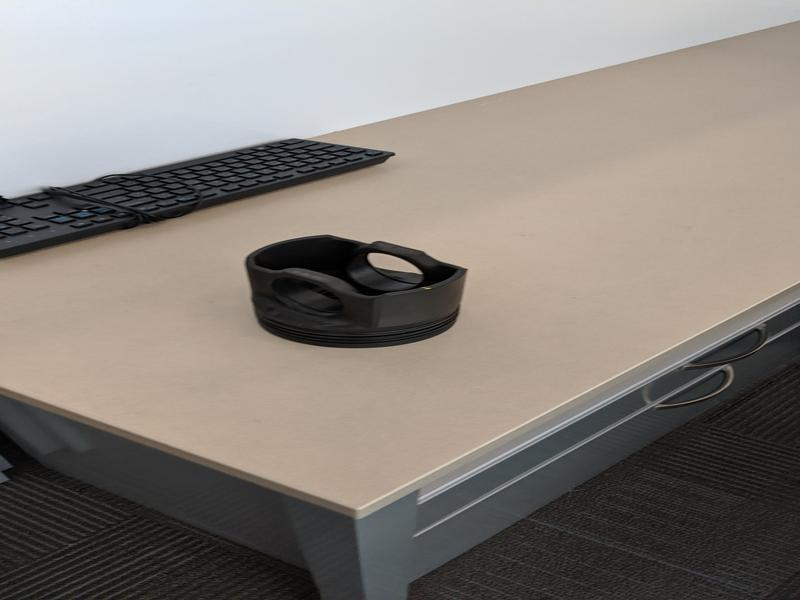piston: (242, 232, 471, 352)
